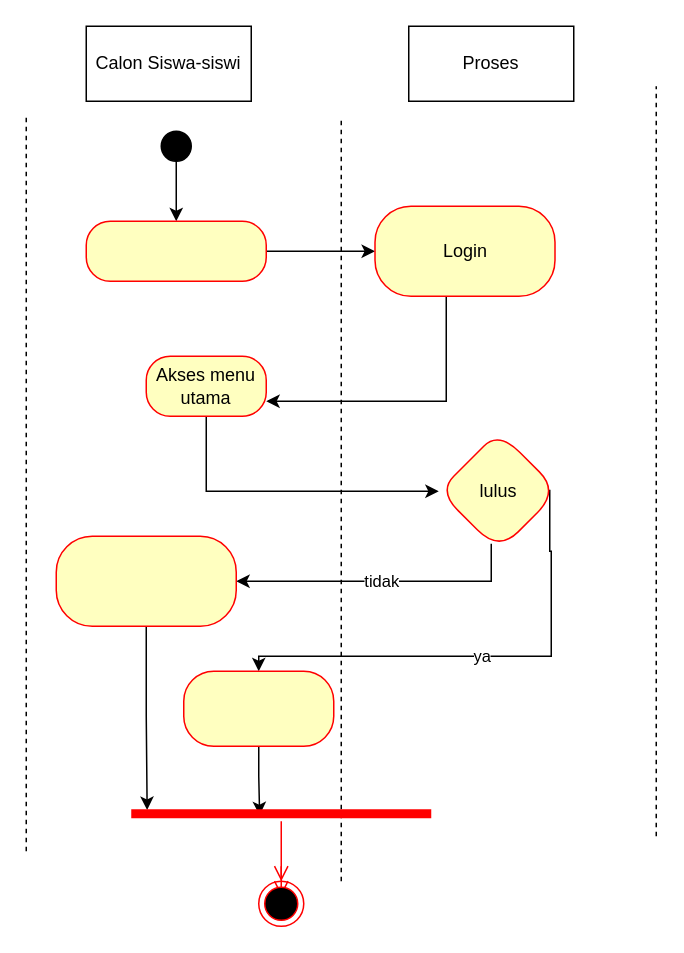
Image size: 684x953. Some labels were removed from this diagram. The shapes that lost their labels are listed below. From the top down, each one's centre as x and y in pixels, then its label:
At pixel 175 250: "Mengakses website".
At pixel 145 580: "Pesan Tidak Lulus".
At pixel 258 708: "Cetak Kartu Pendaftaran".
